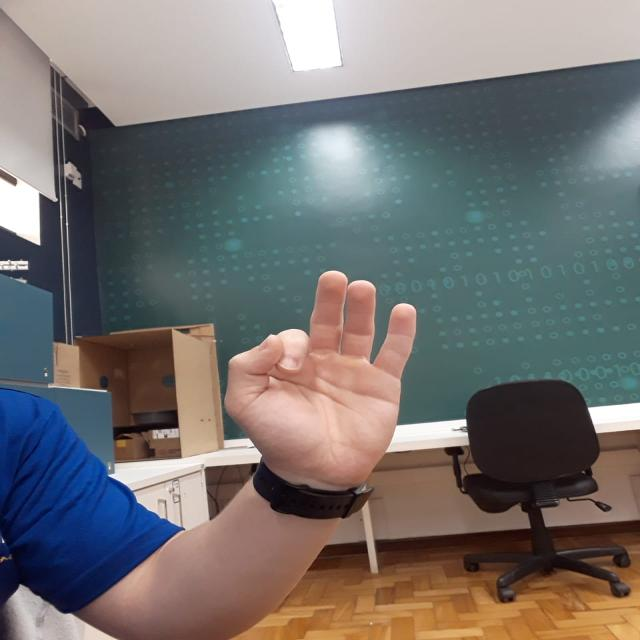F: (218, 267, 426, 488)
